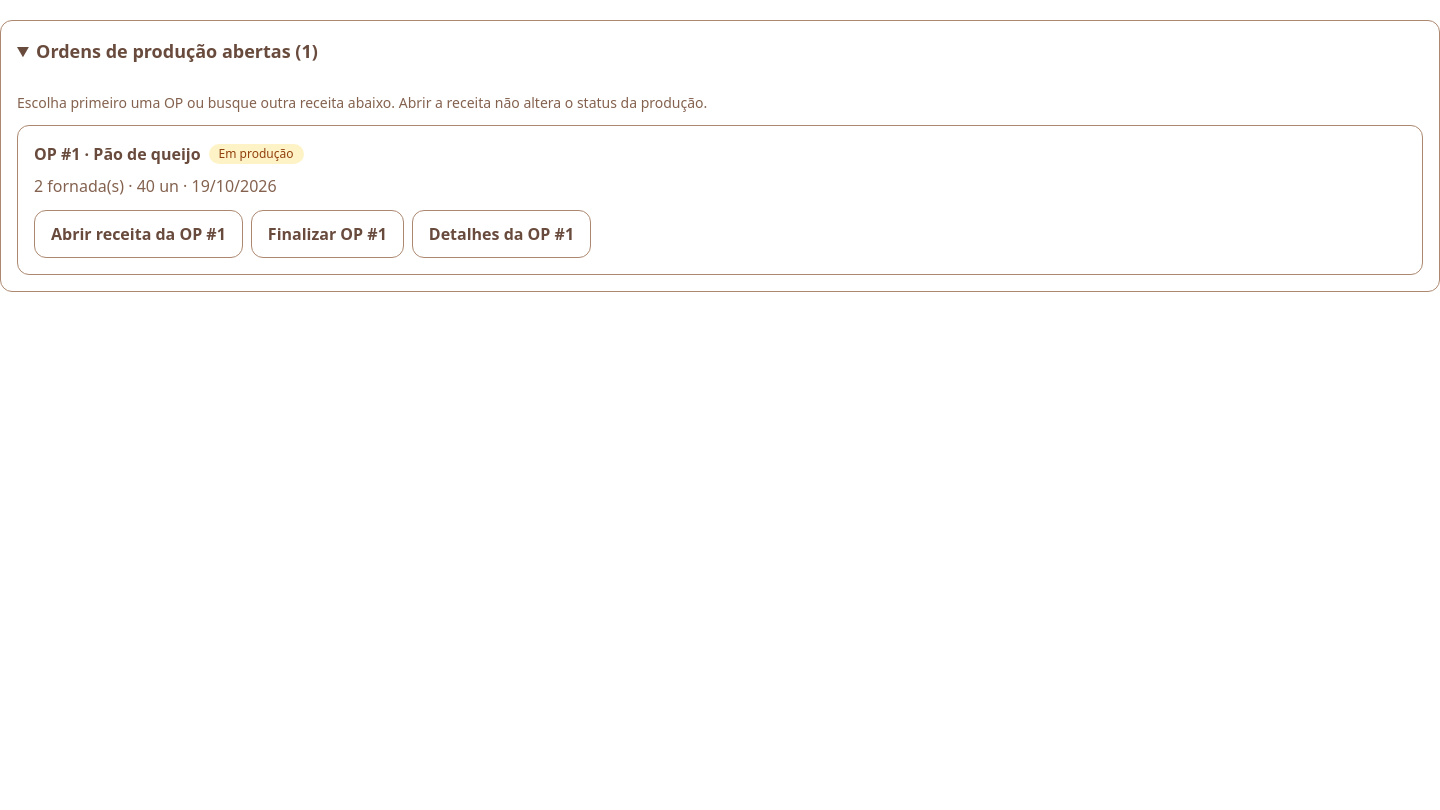
Test: finaliza com unidades reais em vez de fornadas e preserva formulário após recusa
Click the button "Finalizar OP #1".
click(327, 234)  # box [251,210,404,258]
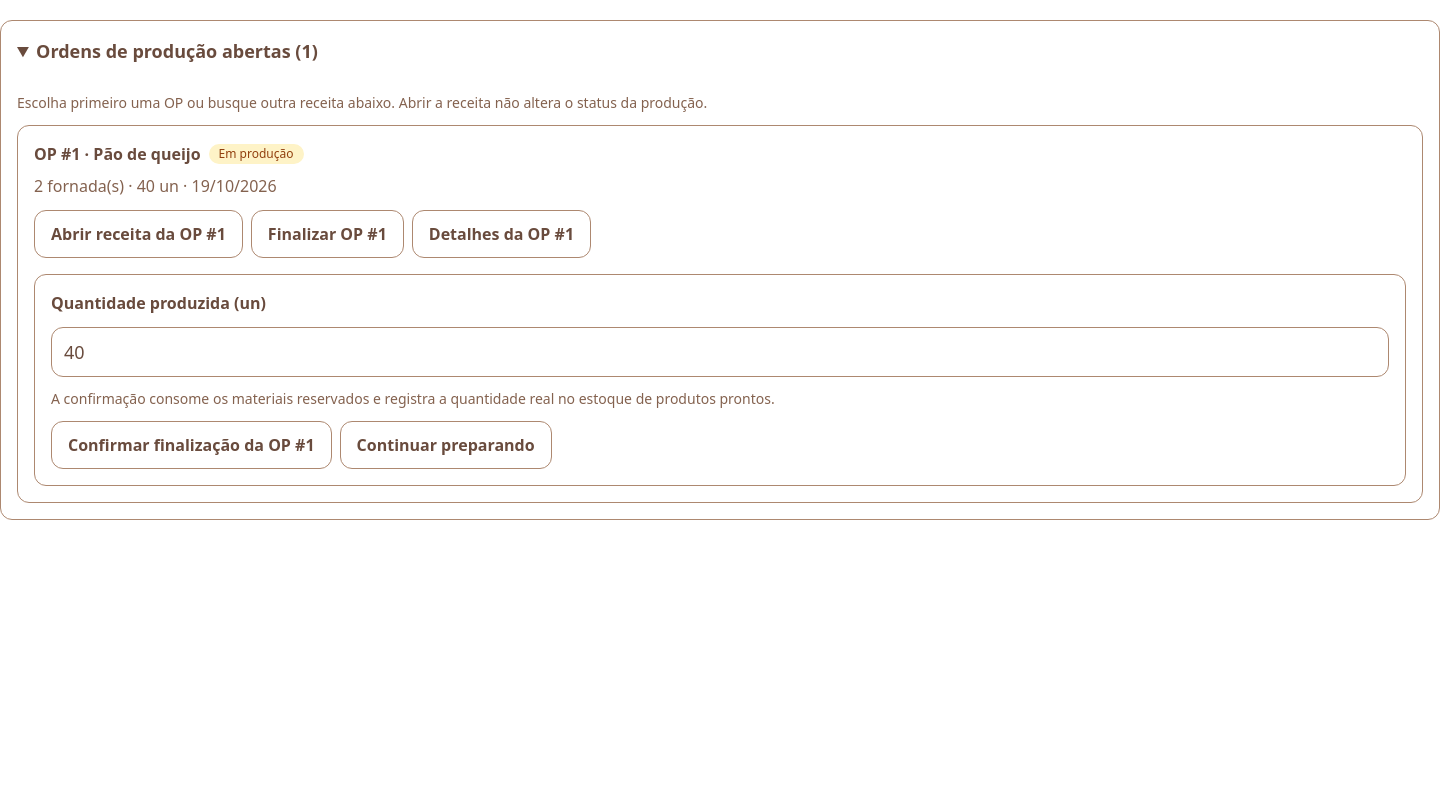
Result: the field labelled "Quantidade produzida (un)" holds "40"
Replace the text in the field labelled "Quantidade produzida (un)" with "38,5" at {"x": 720, "y": 352}, box [51,327,1389,377]
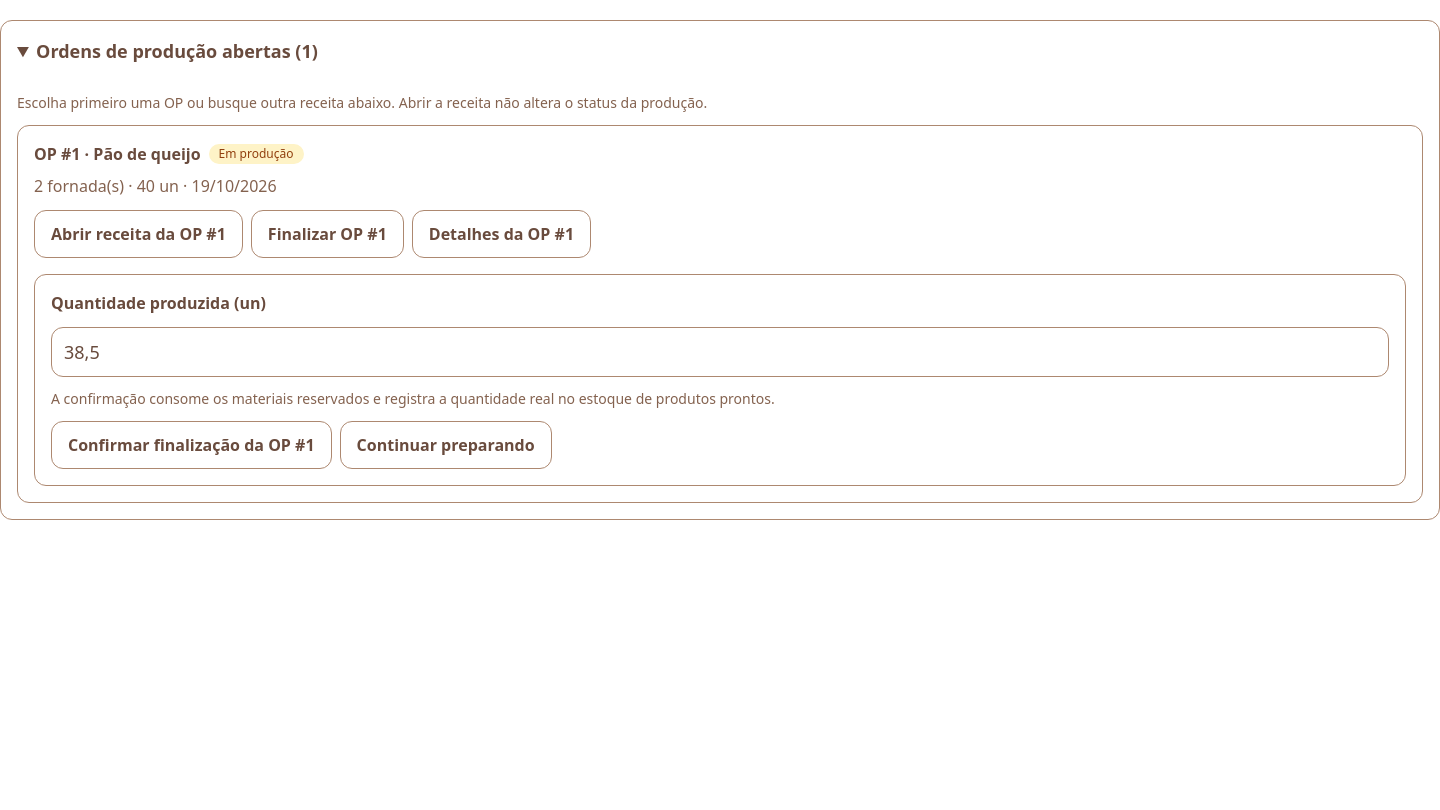
Click the button "Confirmar finalização da OP #1".
click(191, 445)  # box [51,421,332,469]
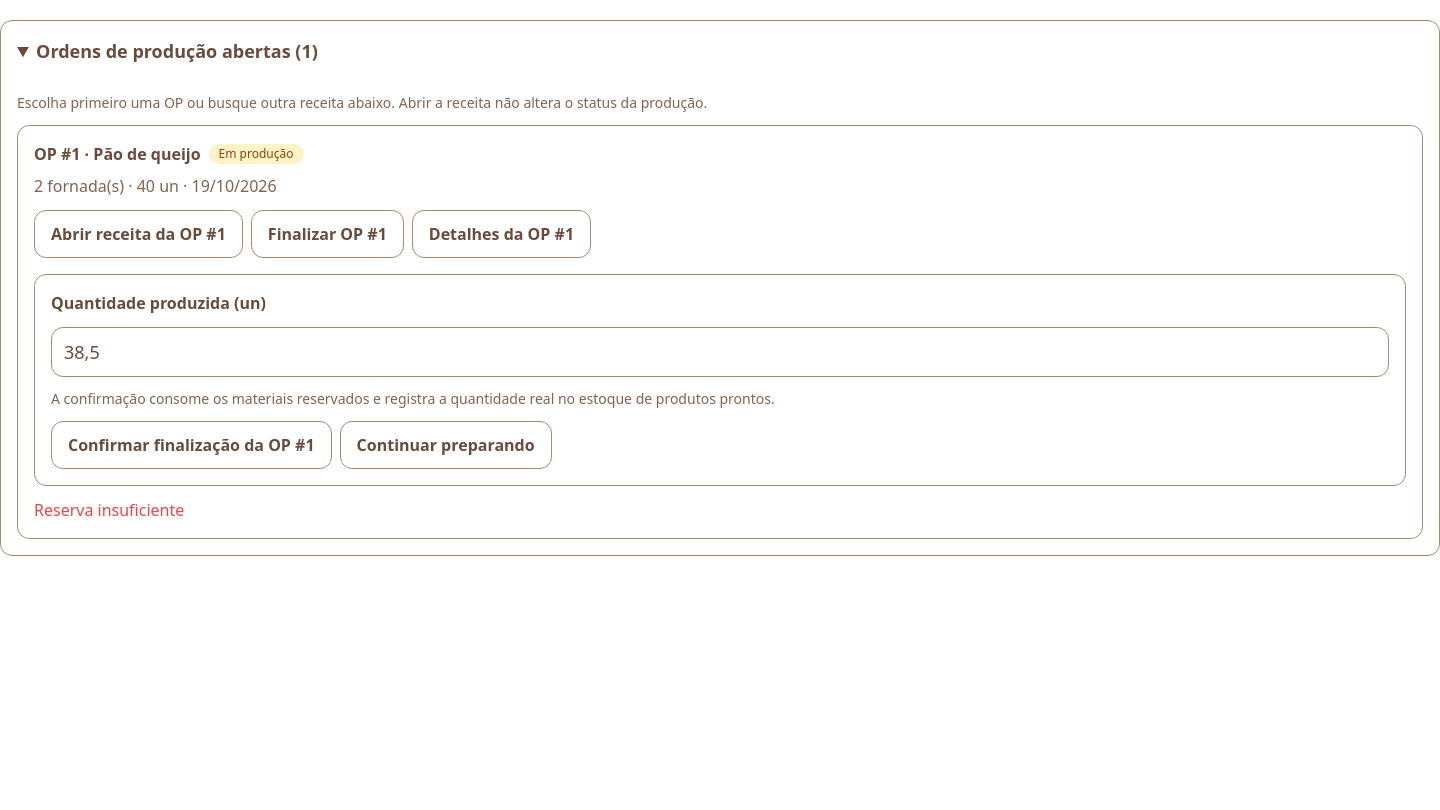
Result: the message reads "Reserva insuficiente" at [34,499,184,521]
